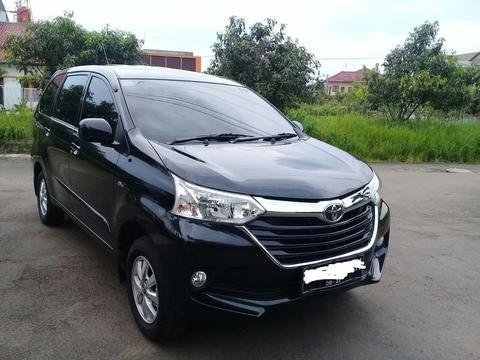mobil: (30, 65, 389, 342)
